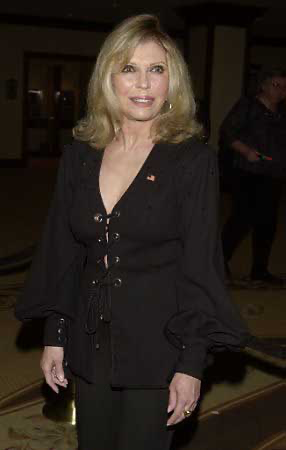Face: (109, 37, 172, 131)
